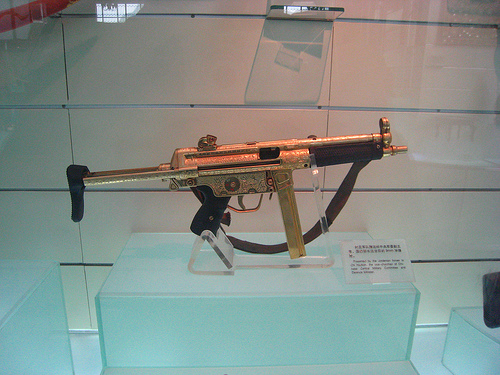rifle: (64, 121, 428, 266)
